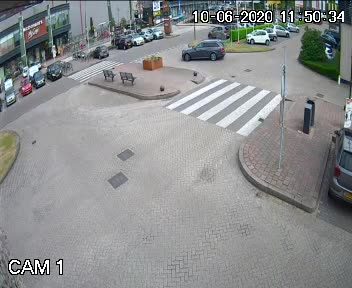car: (180, 35, 231, 63)
